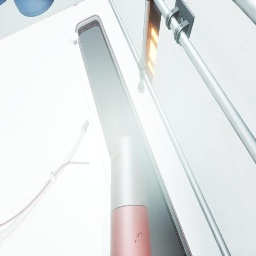NitrogenTank ,: (110, 134, 152, 256)
